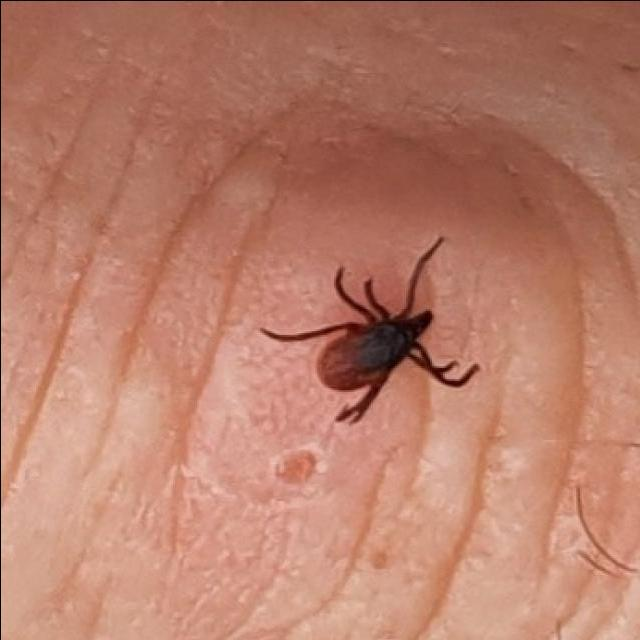Ixodes Ricinus-F: (263, 234, 481, 422)
